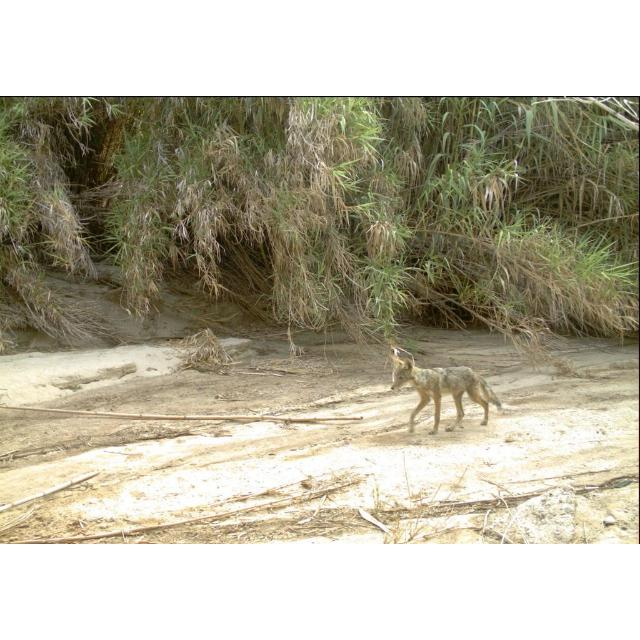animals: (389, 356, 505, 434)
